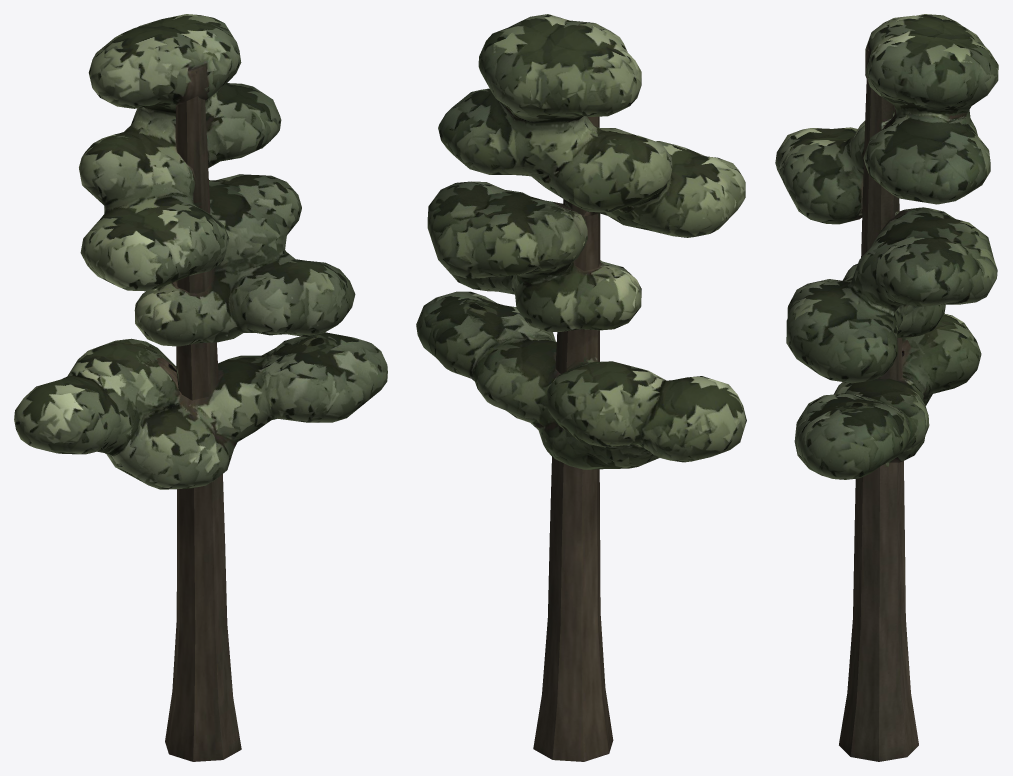
Rendered from tree_tall_b.glb.
3 views of the same model, side by side, from view 1: azimuth 30°, elevation 25°; view 2: azimuth 150°, elevation 25°; view 3: azimuth 270°, elevation 25° (orthographic). The views are drawn at different scales.
Parts seen in each view (by area): view 1: tree_tall_b_lod0; view 2: tree_tall_b_lod0; view 3: tree_tall_b_lod0.
Boxes of the visible parts, x1=… form: tree_tall_b_lod0: x1=14, y1=14, x2=387, y2=761; tree_tall_b_lod0: x1=416, y1=14, x2=746, y2=761; tree_tall_b_lod0: x1=775, y1=14, x2=998, y2=761.
Size of the model in its own units: 2.25 by 4.54 by 1.29.
1 material, 1 textured.
